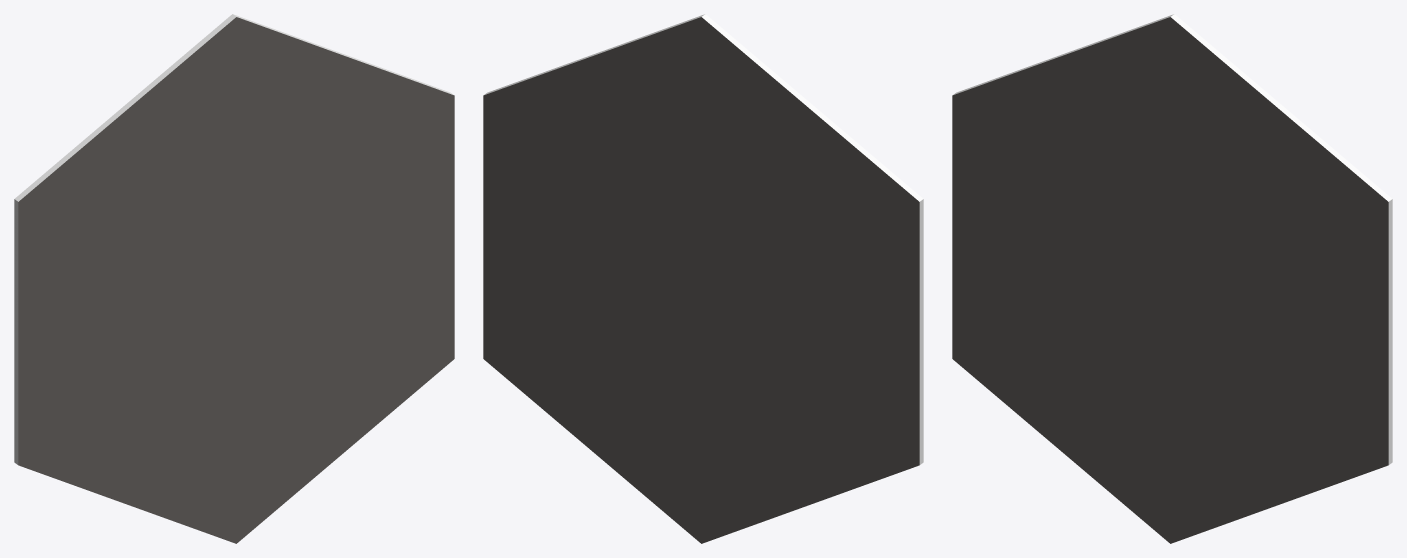
The model's file is Highlighter 1.fbx.
3 renders of one model, left to right at view 1: azimuth 30°, elevation 25°; view 2: azimuth 150°, elevation 25°; view 3: azimuth 330°, elevation 25°, orthographic.
Visible parts, largest first — view 1: Cylinder; view 2: Cylinder; view 3: Cylinder.
Part boxes in pixels (x1=…): Cylinder: x1=14, y1=14, x2=454, y2=543; Cylinder: x1=483, y1=14, x2=923, y2=543; Cylinder: x1=952, y1=14, x2=1392, y2=543.
Bounding box in the file's own units: 86.6 × 100 × 1.38.
